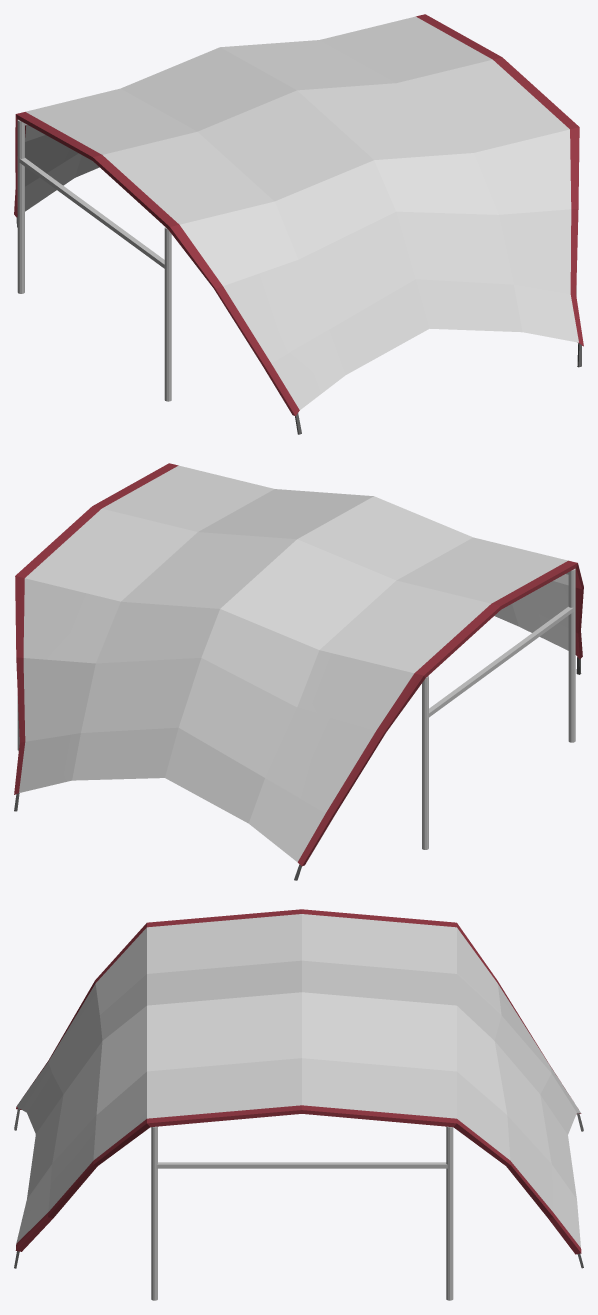
File: Carpa 3.fbx
3 views of the same model, one above another, from view 1: azimuth 30°, elevation 25°; view 2: azimuth 150°, elevation 25°; view 3: azimuth 270°, elevation 25° (orthographic).
Parts seen in each view (by area): view 1: Tela, base_carpa_2; view 2: Tela, base_carpa_2; view 3: Tela, base_carpa_2.
Part boxes in pixels (x1,y1,x2,y2): Tela: (14,14,583,434); base_carpa_2: (17,119,576,401); Tela: (14,463,583,880); base_carpa_2: (17,568,575,849); Tela: (14,909,583,1268); base_carpa_2: (151,1126,453,1300).
Size of the model in its own units: 25.78 by 12.39 by 30.82.
